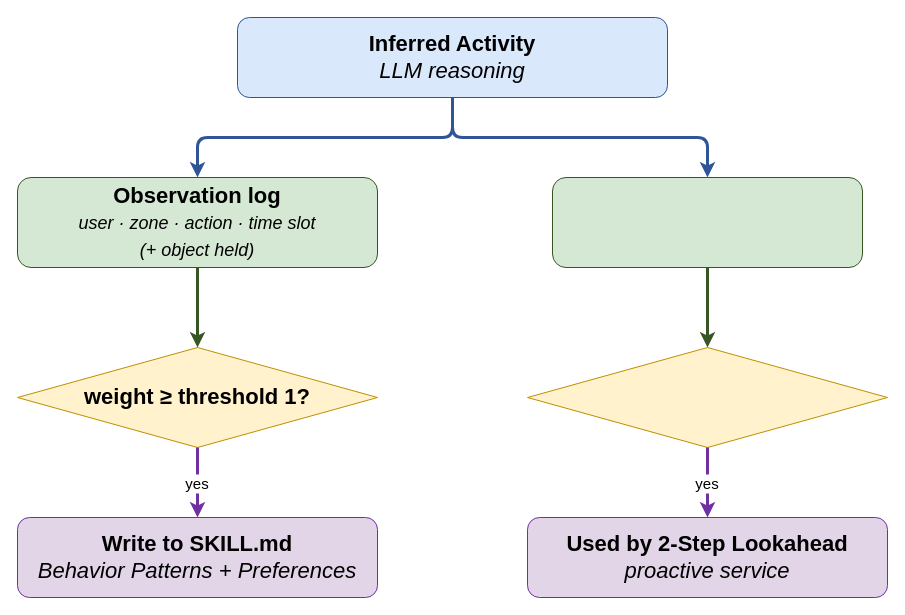
Some shapes in this 905 by 615 pixel diagram are drawn without their labels. The box of each missing label's shape, as (x1, y1, x2, y2) in pixels:
count ≥ threshold 2?: (526, 346, 888, 448)
Transition log action → next action: (552, 176, 862, 268)
